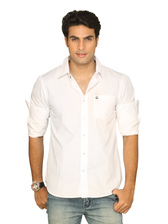clothoes: (18, 53, 142, 200)
